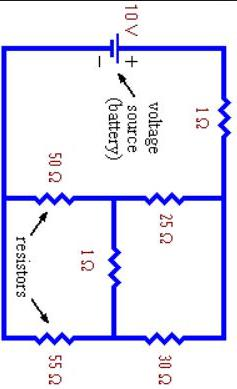resistor: (137, 313, 187, 347), (137, 182, 193, 209), (101, 239, 131, 288), (28, 183, 84, 208), (208, 85, 232, 142), (34, 320, 81, 349)
